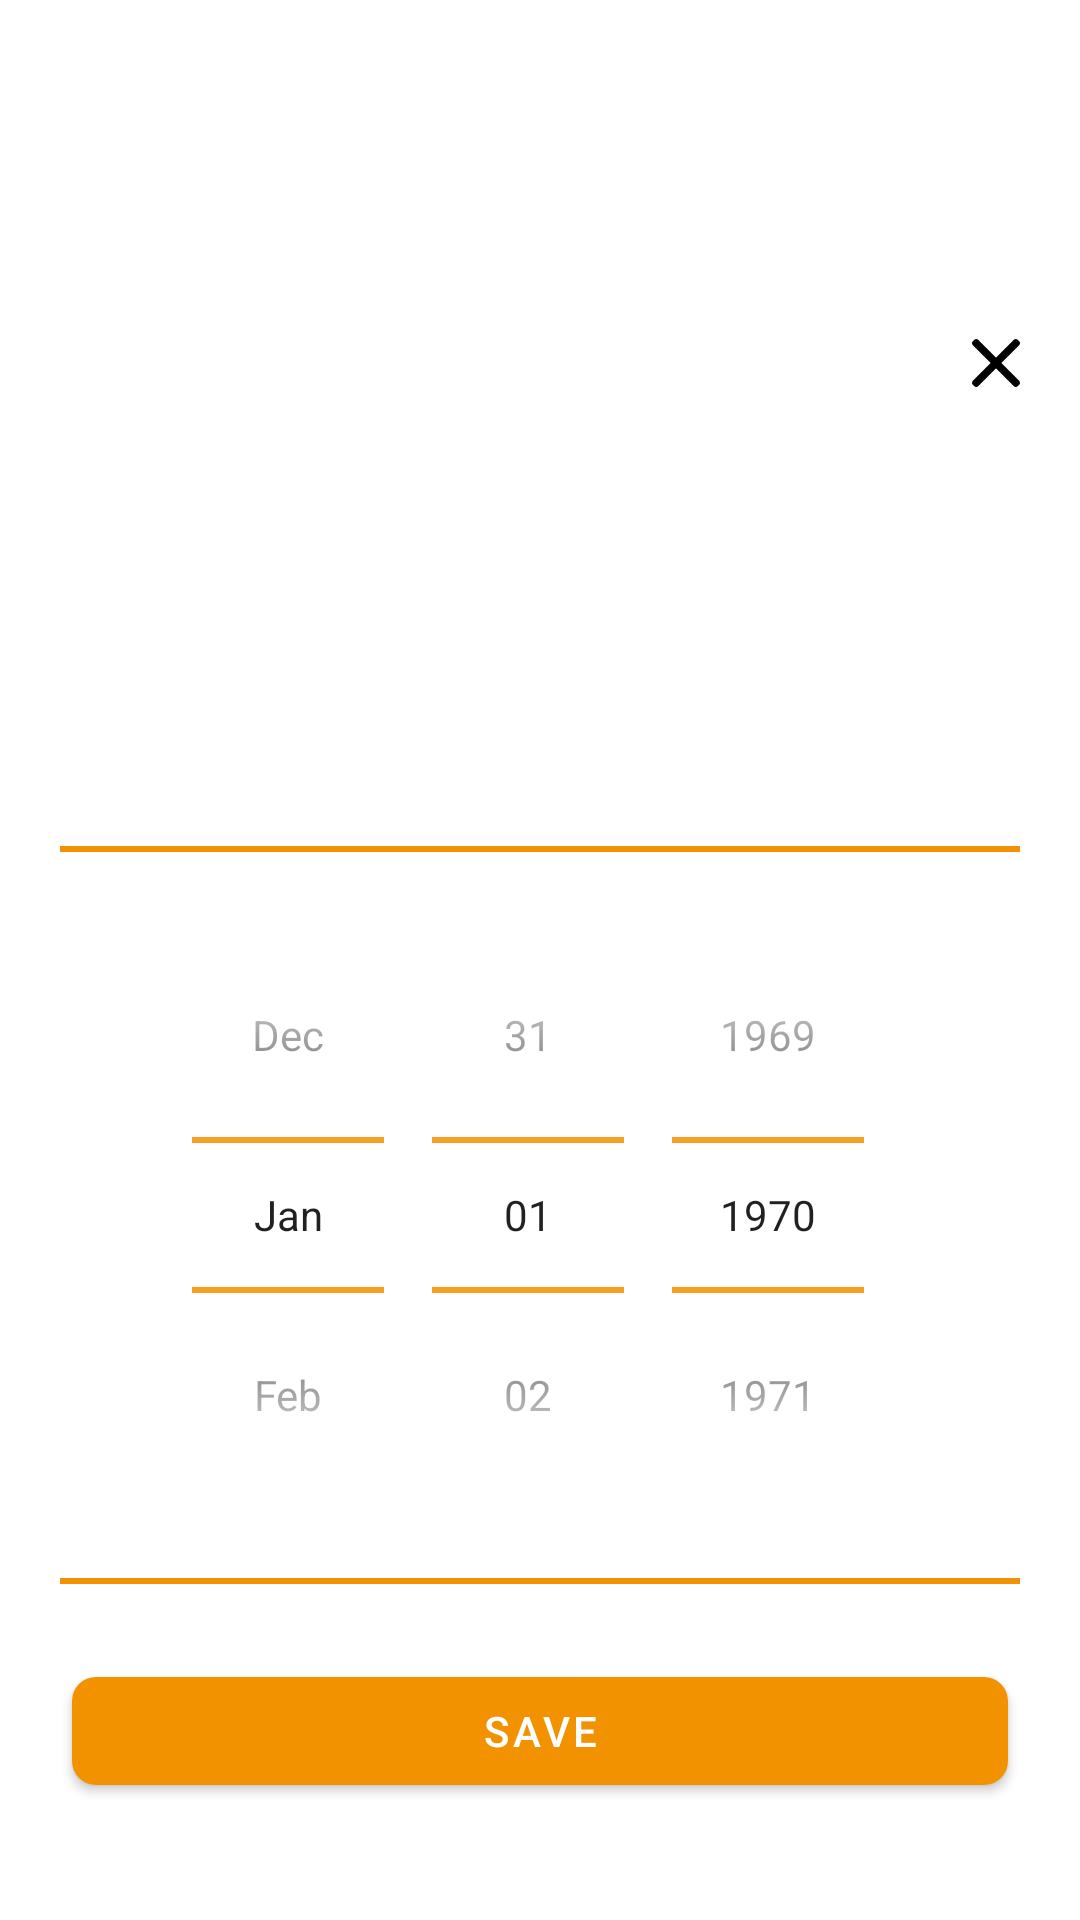

Point at icon controls on the screen. Image size 1080x1920, points as (x=x, y=y).
Cancel: (x=996, y=363)
